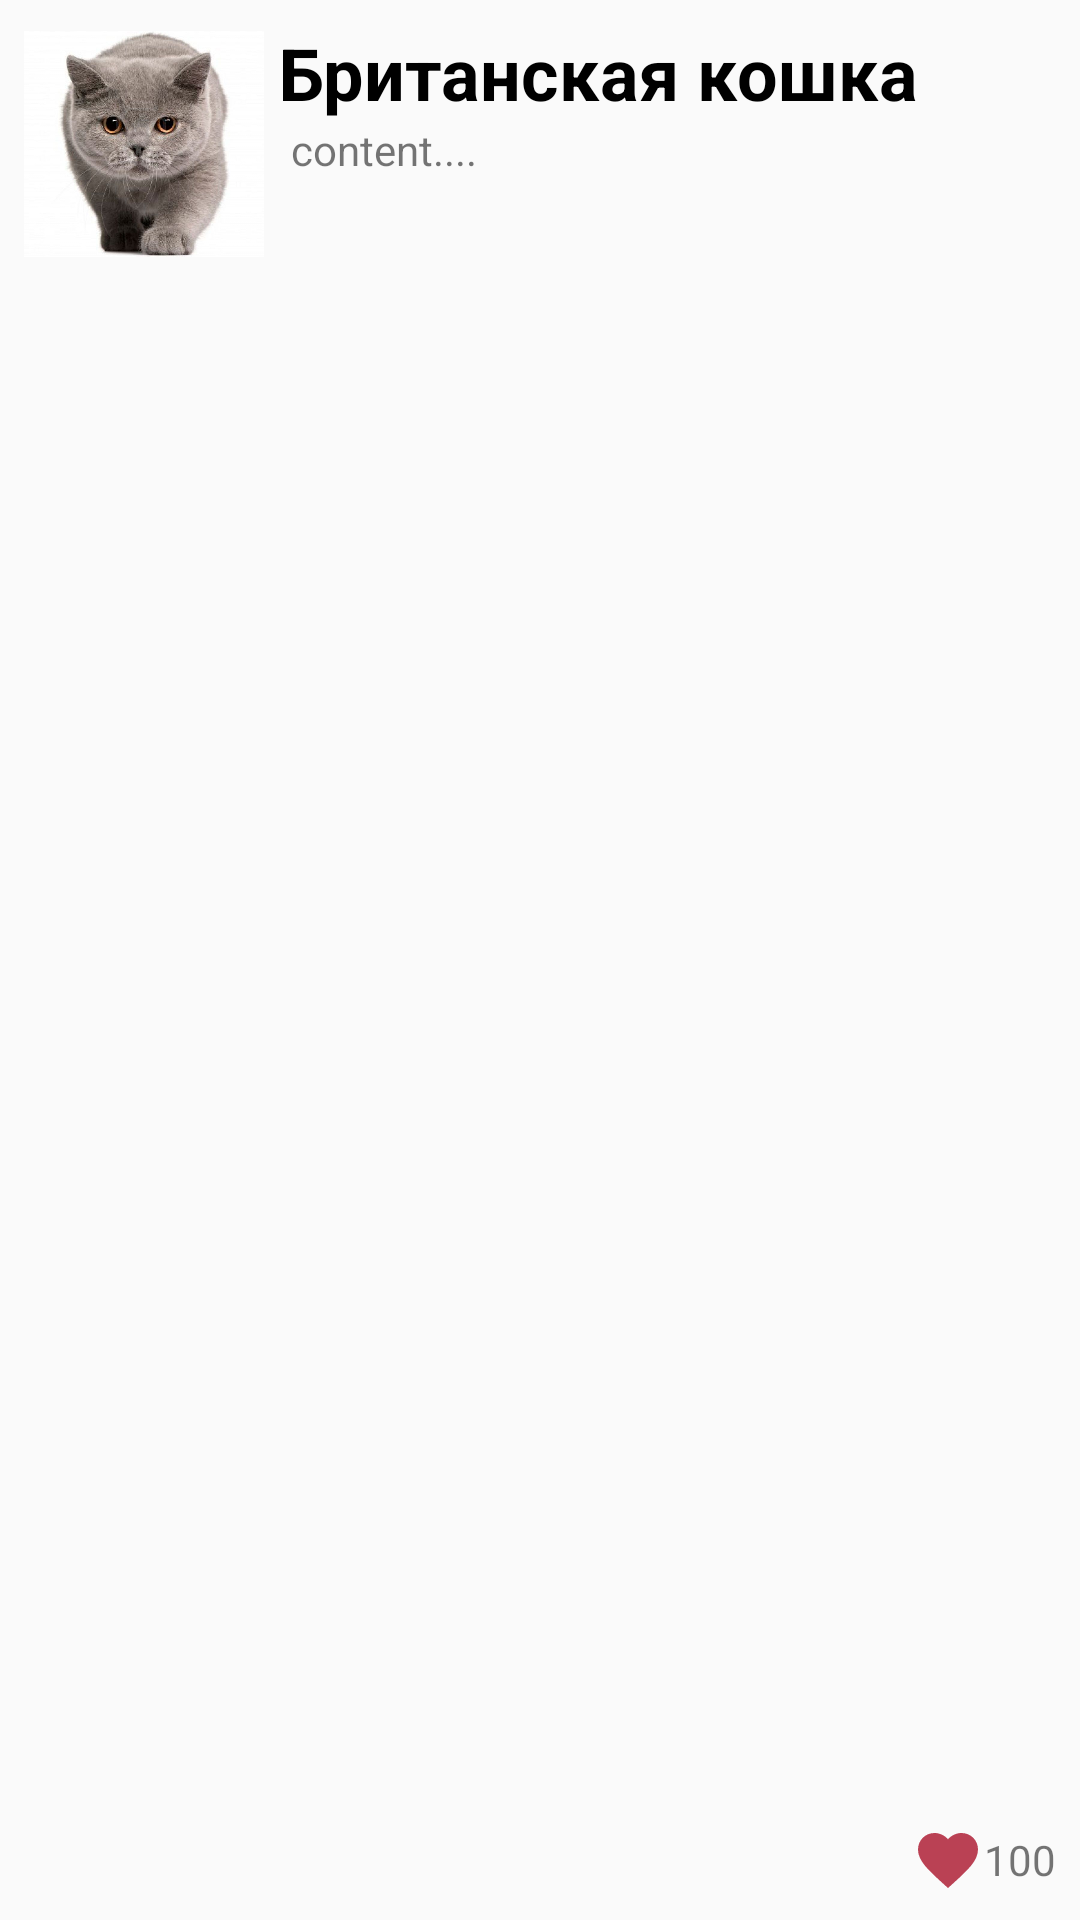

Icons on this 1080x1920 Android screen, each with its box as detection(x1, y1, x2, y2):
brit: detection(60, 33, 228, 256)
like: detection(918, 1833, 978, 1888)
